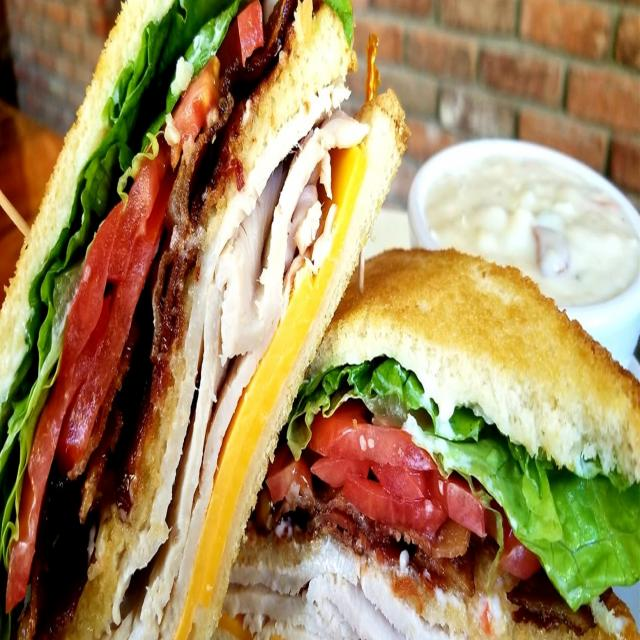Sandwich: (3, 6, 638, 632)
